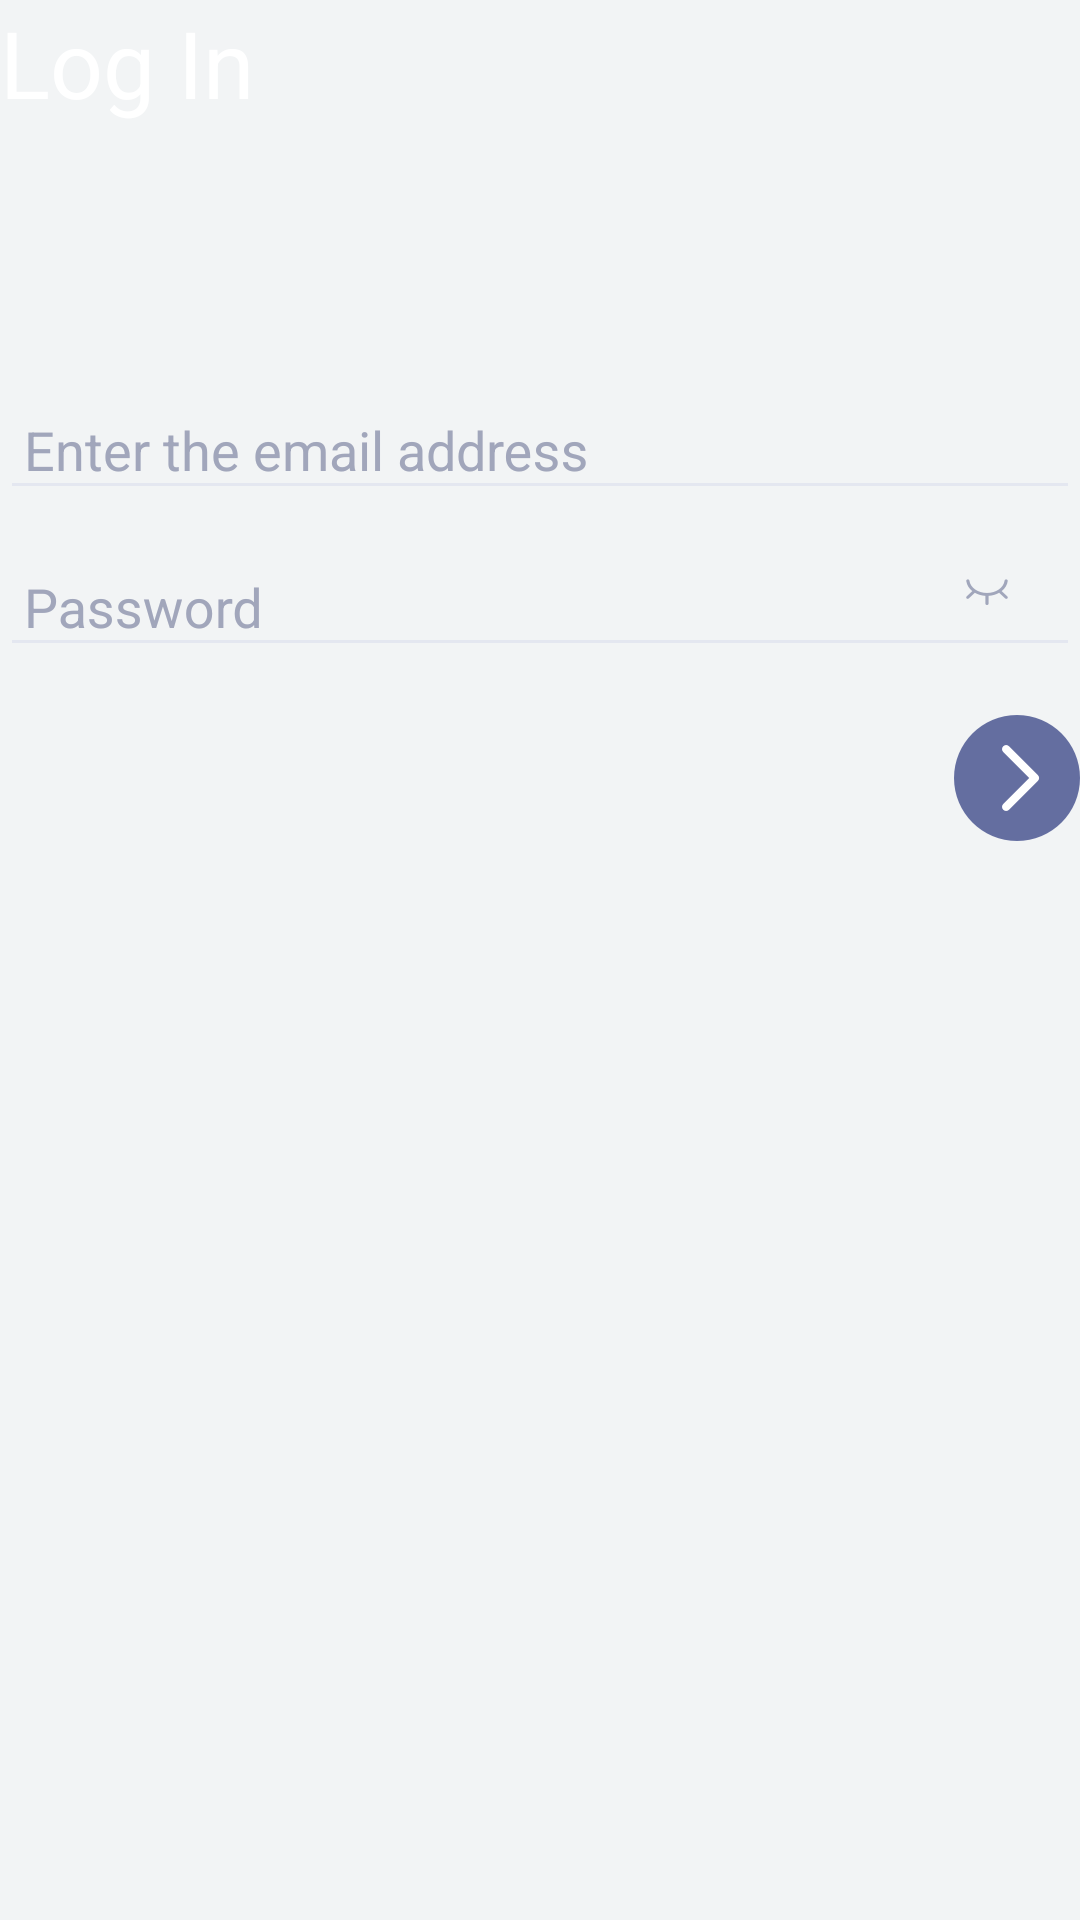

Icon click points for this 1080px x 1920px phone screenshot, format (x,y):
switch pwd mode: (987,592)
